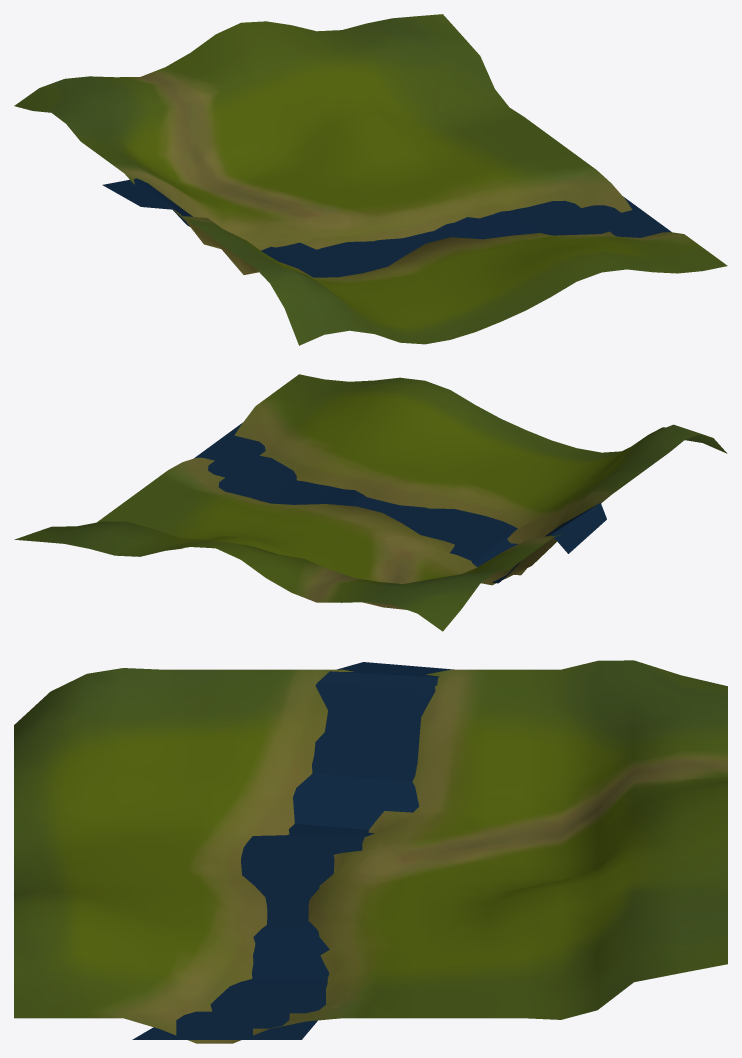
The model's file is terrain.obj.
3 views of the same model, one above another, from view 1: azimuth 30°, elevation 25°; view 2: azimuth 150°, elevation 25°; view 3: azimuth 270°, elevation 25° (orthographic). The views are drawn at different scales.
Parts seen in each view (by area): view 1: Plane, Plane.001_Plane.002; view 2: Plane, Plane.001_Plane.002; view 3: Plane, Plane.001_Plane.002.
Part boxes in pixels (x1,y1,x2,y2): Plane: (14, 14, 727, 345); Plane.001_Plane.002: (102, 178, 671, 277); Plane: (14, 374, 727, 631); Plane.001_Plane.002: (194, 422, 606, 583); Plane: (14, 660, 727, 1043); Plane.001_Plane.002: (132, 662, 453, 1039).
Size of the model in its own units: 21.2 by 4.98 by 23.03.
